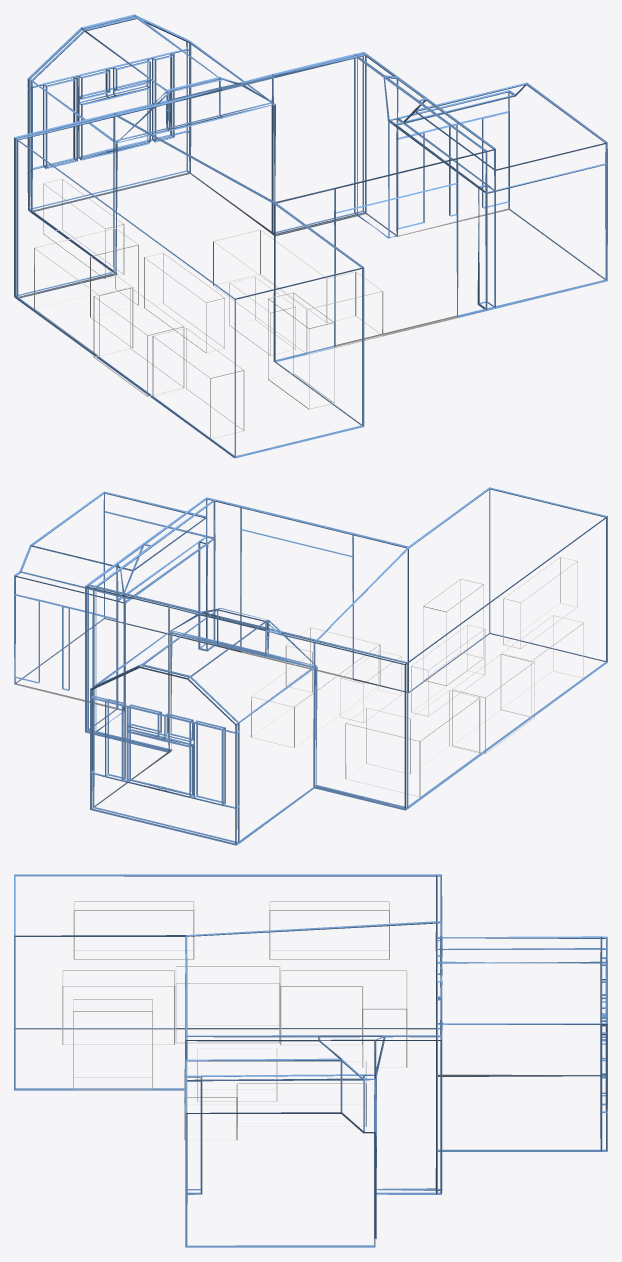
The model's file is _46BurlingtonWayBoxed01.fbx.
3 views of the same model, one above another, from view 1: azimuth 30°, elevation 25°; view 2: azimuth 150°, elevation 25°; view 3: azimuth 270°, elevation 25° (orthographic). The views are drawn at different scales.
Parts seen in each view (by area): view 1: walls, sofa, floor cupboards, cooker, floor cupboard, bookcase, right cupboard; view 2: walls, floor cupboards, sofa, cooker, bookcase, floor cupboard, right cupboard, left cupobard; view 3: walls, floor cupboards, sofa, cooker, left cupobard, right cupboard, floor cupboard.
Part boxes in pixels (box(x1,y1,x2,y2)): walls: box(14, 14, 607, 458); sofa: box(213, 229, 383, 354); floor cupboards: box(34, 228, 138, 356); cooker: box(93, 287, 184, 396); floor cupboard: box(152, 328, 244, 438); bookcase: box(268, 292, 334, 409); right cupboard: box(43, 179, 124, 279); walls: box(14, 487, 607, 845); floor cupboards: box(345, 690, 480, 796); sofa: box(250, 627, 380, 747); cooker: box(452, 653, 534, 753); bookcase: box(423, 578, 483, 685); floor cupboard: box(500, 615, 583, 716); right cupboard: box(411, 624, 485, 716); left cupobard: box(503, 557, 577, 648); walls: box(14, 874, 607, 1247); floor cupboards: box(280, 970, 407, 1067); sofa: box(184, 1061, 366, 1140); cooker: box(175, 966, 280, 1043); left cupobard: box(73, 901, 194, 959); right cupboard: box(269, 901, 389, 959); floor cupboard: box(62, 970, 174, 1044).
Size of the model in its own units: 807 by 283 by 920.
